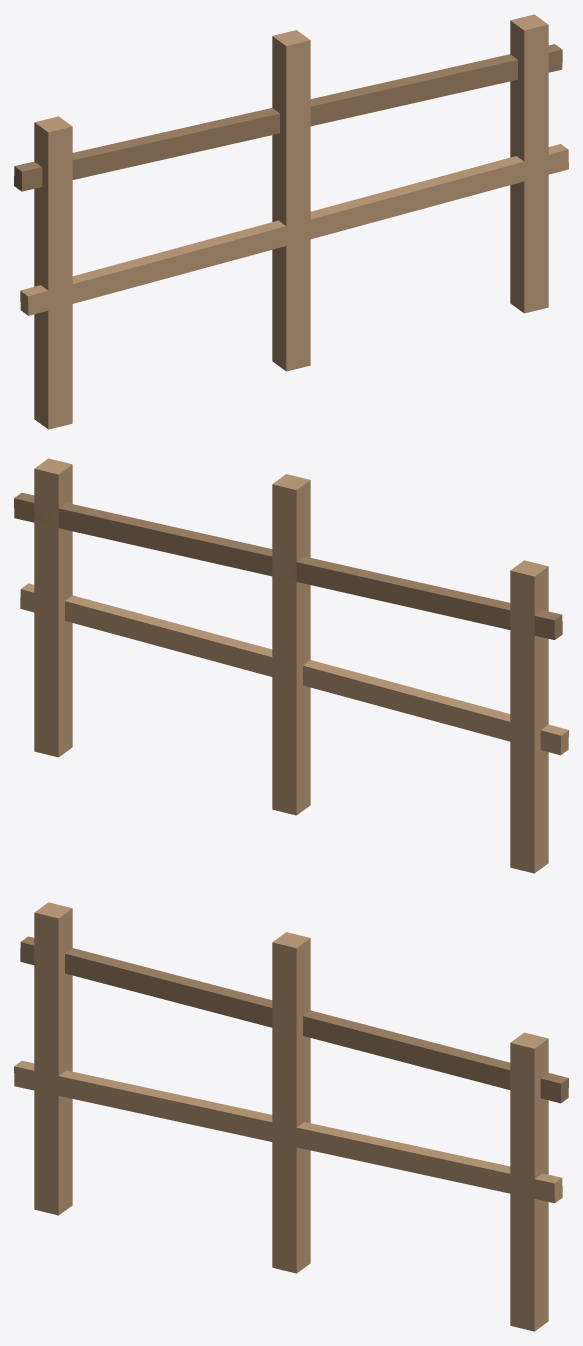
File: fence.glb
The picture shows the model from 3 angles, top to bottom: view 1: azimuth 30°, elevation 25°; view 2: azimuth 150°, elevation 25°; view 3: azimuth 330°, elevation 25°; orthographic projection.
Visible parts, largest first — view 1: rail_1, rail_2, post_1, post_0, post_2; view 2: rail_2, rail_1, post_1, post_0, post_2; view 3: rail_1, rail_2, post_1, post_0, post_2.
Part boxes in pixels (x1,y1,x2,y2): rail_1: [20, 144, 568, 315]; rail_2: [14, 44, 562, 191]; post_1: [272, 30, 310, 371]; post_0: [34, 116, 72, 429]; post_2: [510, 14, 548, 313]; rail_2: [14, 492, 562, 639]; rail_1: [20, 583, 568, 755]; post_1: [272, 474, 310, 815]; post_0: [510, 560, 548, 873]; post_2: [34, 458, 72, 757]; rail_1: [14, 1060, 562, 1203]; rail_2: [20, 936, 568, 1103]; post_1: [272, 932, 310, 1273]; post_0: [34, 902, 72, 1215]; post_2: [510, 1032, 548, 1331].
Bounding box in the file's own units: 2 × 1.15 × 0.0899.
